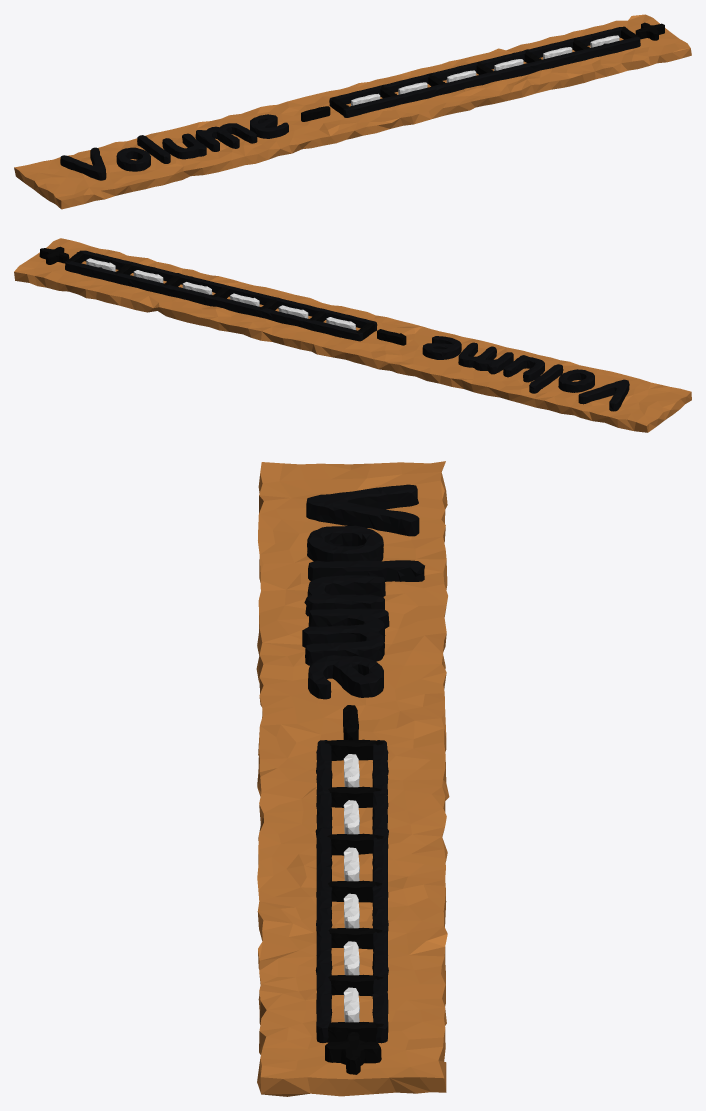
The model's file is Volume 1.fbx.
The picture shows the model from 3 angles, top to bottom: view 1: azimuth 30°, elevation 25°; view 2: azimuth 150°, elevation 25°; view 3: azimuth 270°, elevation 25°; orthographic projection. The views are drawn at different scales.
Parts seen in each view (by area): view 1: Куб.014; view 2: Куб.014; view 3: Куб.014.
Part boxes in pixels (box(x1,y1,x2,y2)): Куб.014: box(14, 14, 691, 209); Куб.014: box(14, 238, 691, 432); Куб.014: box(256, 461, 449, 1096).
Bounding box in the file's own units: 710 × 19.47 × 93.67.
